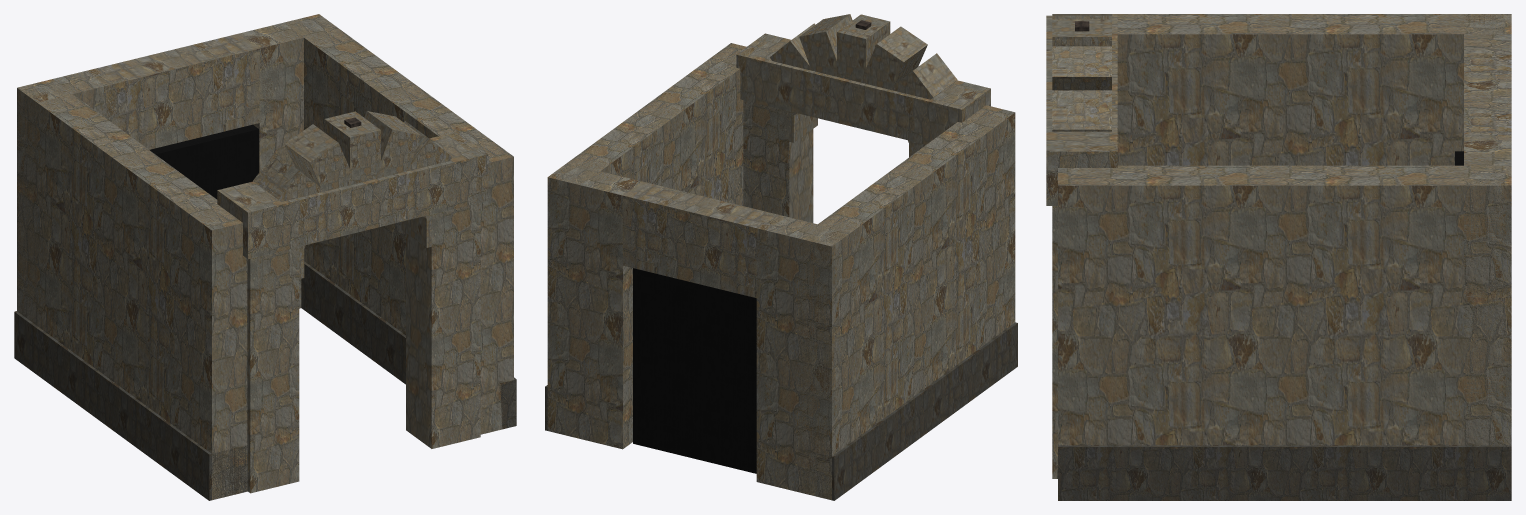
The model's file is prop_crypt_entrance.glb.
The picture shows the model from 3 angles, left to right: view 1: azimuth 30°, elevation 25°; view 2: azimuth 150°, elevation 25°; view 3: azimuth 270°, elevation 25°; orthographic projection. The views are drawn at different scales.
Visible parts, largest first — view 1: prop_crypt_entrance; view 2: prop_crypt_entrance; view 3: prop_crypt_entrance.
Part boxes in pixels (x1,y1,x2,y2): prop_crypt_entrance: (14, 14, 516, 500); prop_crypt_entrance: (545, 14, 1017, 500); prop_crypt_entrance: (1046, 14, 1511, 500).
Bounding box in the file's own units: 3.46 × 3.6 × 3.9.
Materials: 4 (4 with a texture image).
